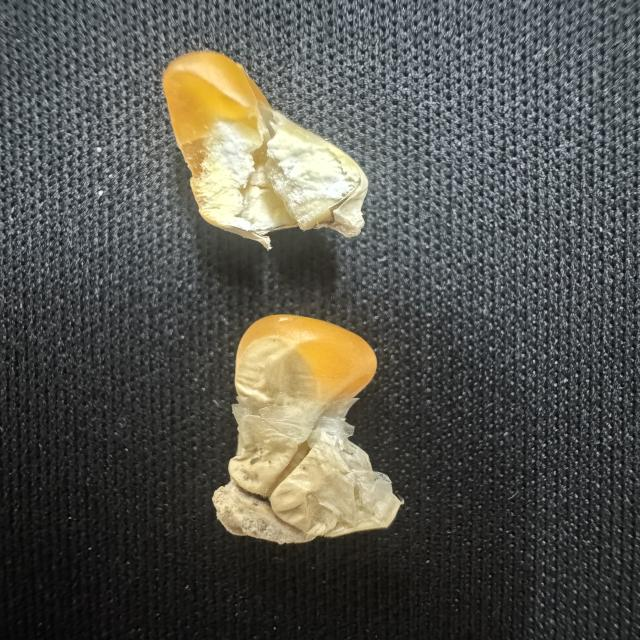Bad-Seed: (207, 311, 408, 548), (156, 45, 376, 252)
